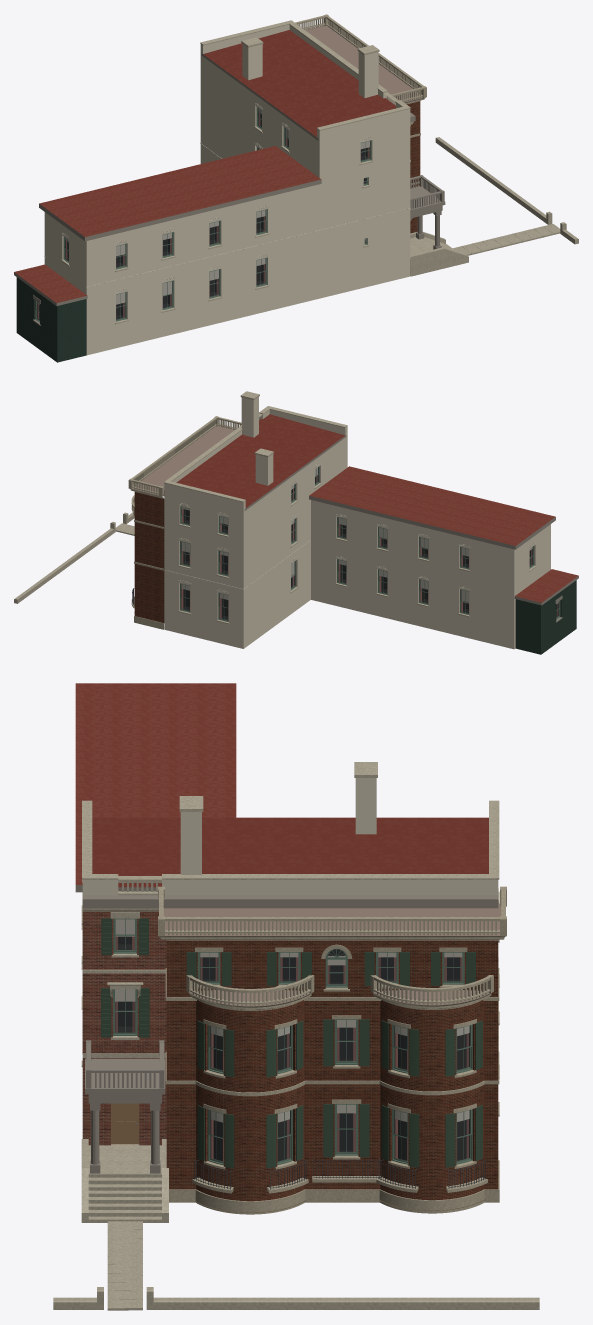
File: dexter_house_1721_prairie__as_mapped_1904.glb
3 views of the same model, one above another, from view 1: azimuth 30°, elevation 25°; view 2: azimuth 150°, elevation 25°; view 3: azimuth 270°, elevation 25° (orthographic). The views are drawn at different scales.
Visible parts, largest first — view 1: dexter_house_1721_prairie__as_mapped_1904; view 2: dexter_house_1721_prairie__as_mapped_1904; view 3: dexter_house_1721_prairie__as_mapped_1904.
Boxes of the visible parts, x1=… form: dexter_house_1721_prairie__as_mapped_1904: x1=14, y1=14, x2=578, y2=362; dexter_house_1721_prairie__as_mapped_1904: x1=14, y1=391, x2=578, y2=654; dexter_house_1721_prairie__as_mapped_1904: x1=53, y1=683, x2=539, y2=1310.
Bounding box in the file's own units: 44 × 16.93 × 20.58.
Materials: 25 (8 with a texture image).
